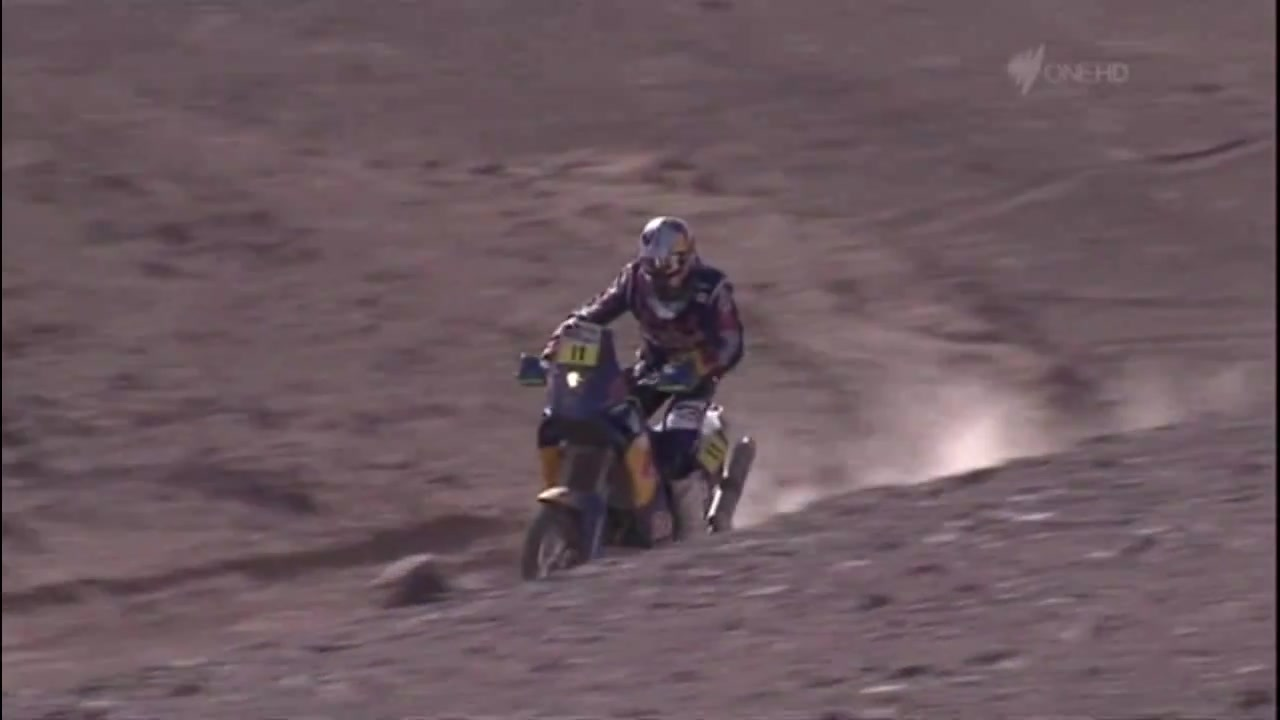motorbike: (512, 325, 755, 582)
